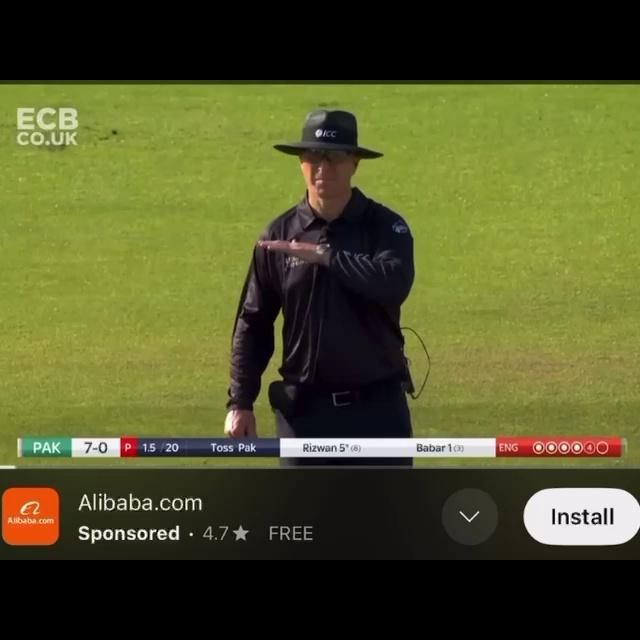umpire: (165, 96, 485, 437)
